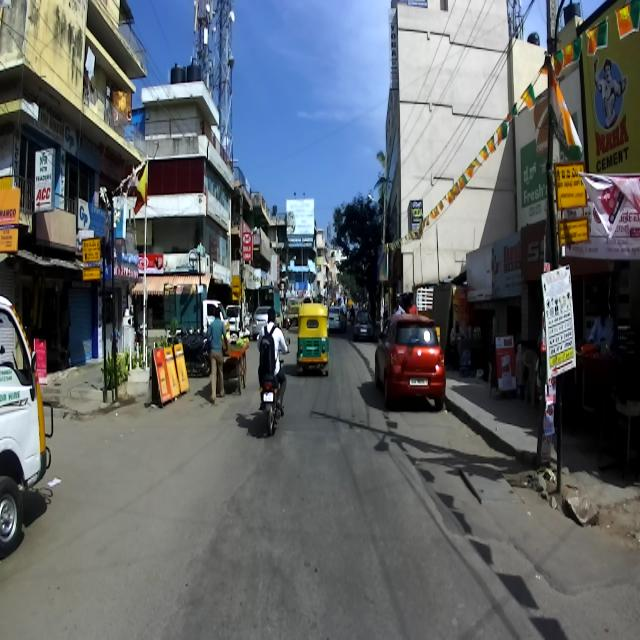auto ahead at: (294, 302, 332, 373)
car ahead at: (373, 308, 453, 422)
motorcycle ahead at: (252, 370, 291, 433)
person ahead at: (206, 306, 230, 408)
